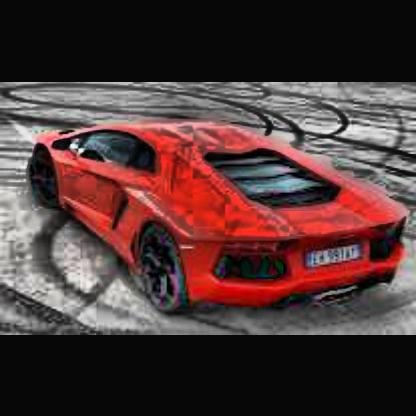Lamborghini Aventador Coupe 2012: (32, 118, 411, 322)
